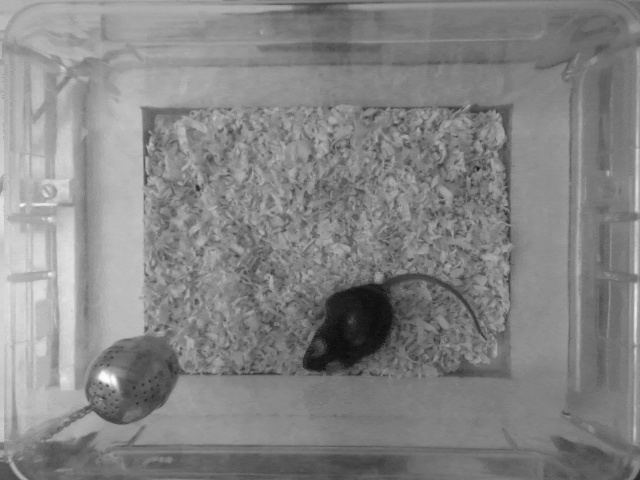mice: (302, 266, 491, 376)
